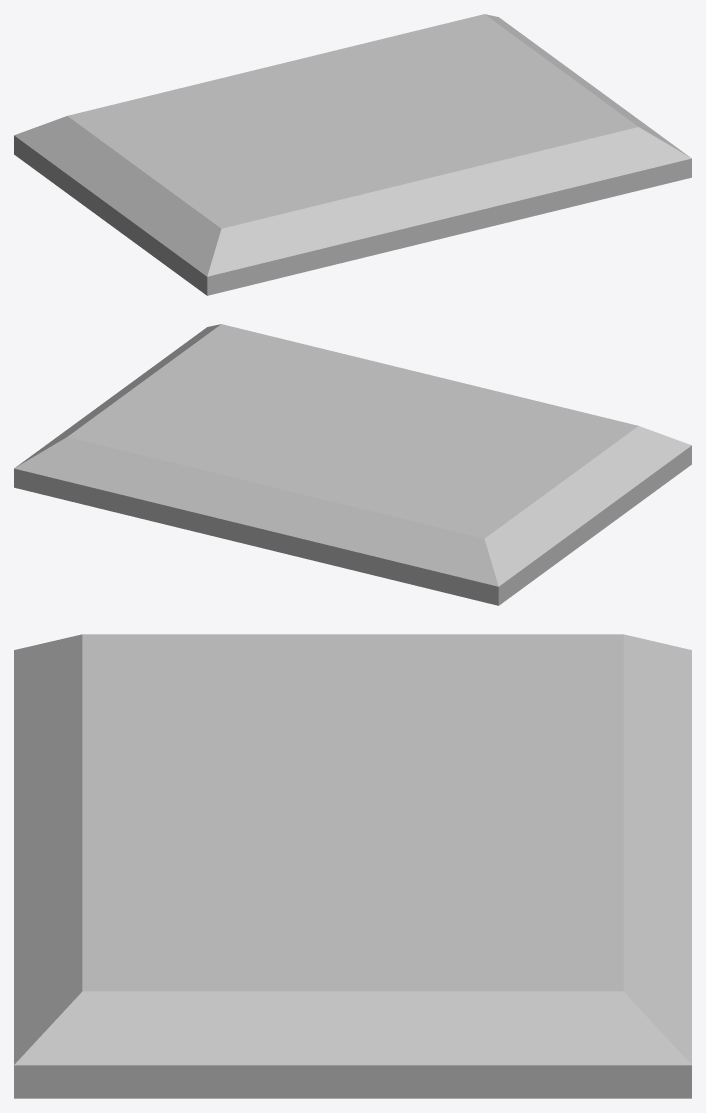
The model's file is Itr_Table4_Top_06.FBX.
3 renders of one model, top to bottom at view 1: azimuth 30°, elevation 25°; view 2: azimuth 150°, elevation 25°; view 3: azimuth 270°, elevation 25°, orthographic. The views are drawn at different scales.
Visible parts, largest first — view 1: Itr_Table4_Top_06; view 2: Itr_Table4_Top_06; view 3: Itr_Table4_Top_06.
Boxes of the visible parts, box(x1,y1,x2,y2) form: Itr_Table4_Top_06: box(14, 14, 691, 295); Itr_Table4_Top_06: box(14, 324, 691, 605); Itr_Table4_Top_06: box(14, 634, 691, 1098).
Size of the model in its own units: 58.16 by 5.12 by 40.15.
